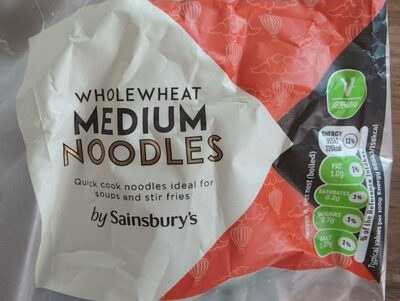Wholewheat Medium Noodles: (20, 15, 380, 286)
